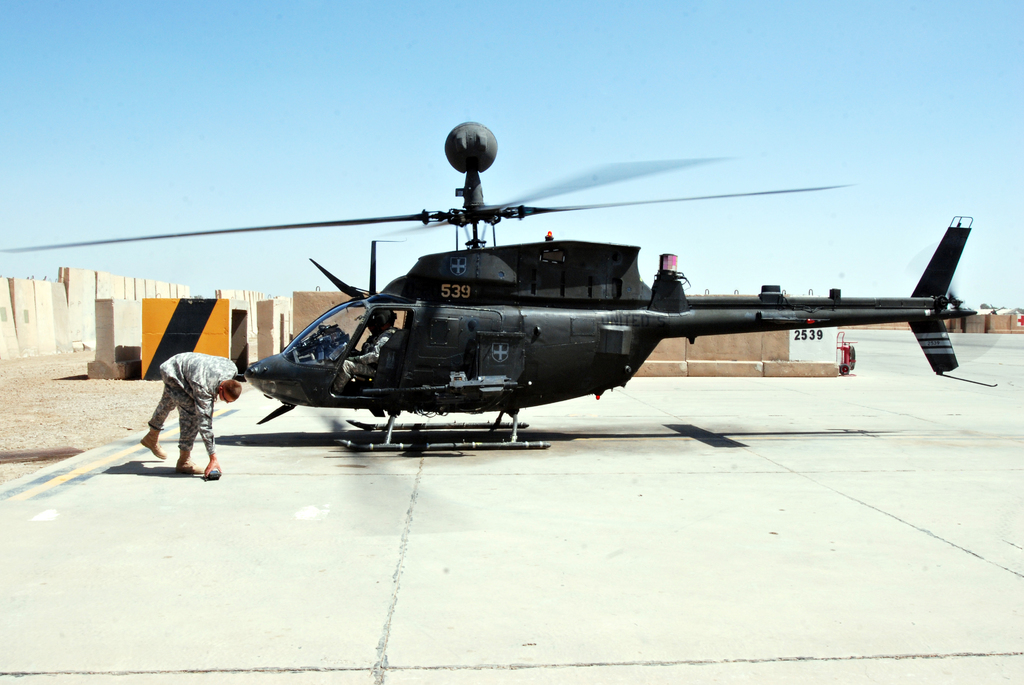person: (138, 350, 245, 477)
